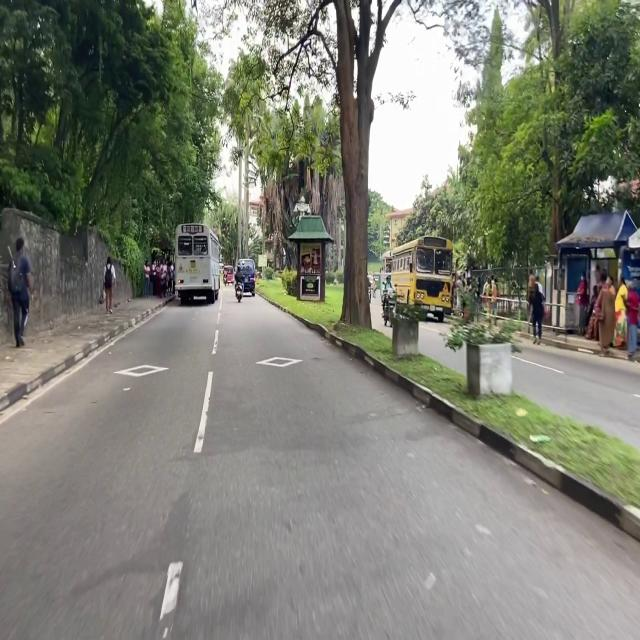bus: (391, 236, 452, 321), (173, 221, 220, 306), (380, 251, 392, 296)
motorcycle: (382, 289, 397, 327), (236, 282, 242, 303), (368, 287, 371, 303), (224, 273, 227, 286)
person: (8, 237, 33, 347), (599, 277, 615, 351), (627, 283, 640, 355), (530, 282, 544, 343), (615, 277, 627, 348), (577, 273, 588, 334), (104, 257, 115, 313), (381, 274, 392, 308), (588, 286, 598, 322), (142, 260, 151, 297), (491, 278, 498, 323), (527, 270, 535, 306), (235, 261, 244, 291), (475, 276, 480, 320), (155, 261, 161, 297), (161, 261, 167, 297), (151, 259, 156, 296), (168, 263, 174, 293), (373, 279, 376, 298), (223, 265, 227, 276)
three wheeler: (226, 265, 234, 284), (373, 272, 380, 290)
van: (239, 258, 255, 296)
